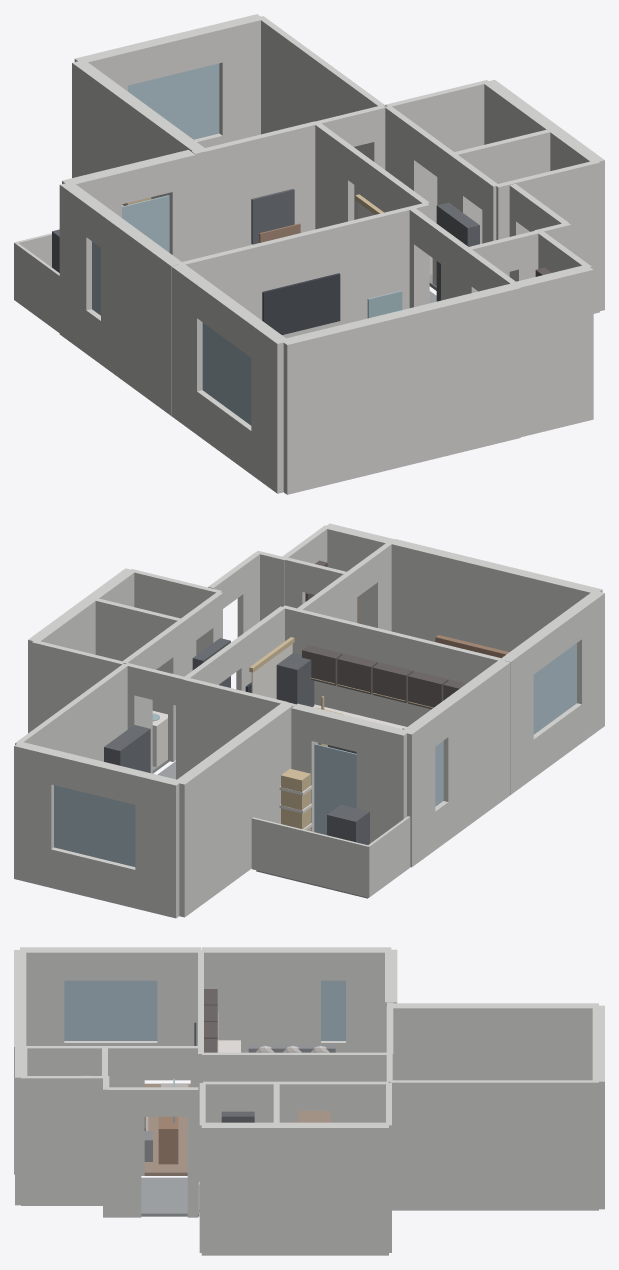
Rendered from kvartira-graphite-two-daily.glb.
3 views of the same model, one above another, from view 1: azimuth 30°, elevation 25°; view 2: azimuth 150°, elevation 25°; view 3: azimuth 270°, elevation 25° (orthographic). The views are drawn at different scales.
Parts seen in each view (by area): view 1: wall_w_l_s_166_612_0.0, wall_w_dividing_168_644_0.0, wall_w_closet_s_612_752_0.0, wall_w_k_w_559_791_0.0, wall_w_top_s_426_660_0.0, wall_w_top_w_20_423_0.0, wall_w_top_e_20_425_0.0, wall_w_wc_s_777_971_0.0, wall_w_l_w_1057_1143_0.0, wall_w_top_n_691_771_0.0, wall_w_bath_n_777_971_0.0, wall_w_k_w_423_511_0.0 (+40 smaller); view 2: wall_w_l_s_166_612_0.0, wall_w_top_w_20_423_0.0, wall_w_dividing_168_644_0.0, wall_w_k_w_559_791_0.0, wall_w_top_n_422_510_0.0, wall_w_log_n_159_409_0.0, wall_w_top_n_691_771_0.0, wall_w_top_e_20_425_0.0, wall_w_top_n_510_691_0.8, wall_w_k_n1_165_266_0.0, wall_w_k_n2_408_643_0.0, wall_w_bath_n_777_971_0.0 (+51 smaller); view 3: wall_w_top_e_20_425_0.0, wall_w_bath_e_427_791_0.0, wall_w_top_w_20_423_0.0, wall_w_k_w_559_791_0.0, wall_w_closet_e_978_1141_0.0, wall_w_l_w_877_1057_0.8, wall_w_entry_e_908_972_0.0, wall_w_l_w_792_877_0.0, wall_w_k_w_423_511_0.0, wall_w_l_w_1057_1143_0.0, wall_w_l_w_877_1057_2.1, wall_w_k_e_625_790_0.0 (+28 smaller).
Boxes of the visible parts, box(x1,y1,x2,y2) form: wall_w_l_s_166_612_0.0: box(281, 283, 520, 494); wall_w_dividing_168_644_0.0: box(178, 202, 429, 338); wall_w_closet_s_612_752_0.0: box(516, 265, 593, 437); wall_w_k_w_559_791_0.0: box(101, 212, 182, 415); wall_w_top_s_426_660_0.0: box(204, 119, 327, 256); wall_w_top_w_20_423_0.0: box(72, 60, 204, 199); wall_w_top_e_20_425_0.0: box(258, 16, 385, 219); wall_w_wc_s_777_971_0.0: box(495, 161, 599, 313); wall_w_l_w_1057_1143_0.0: box(251, 322, 289, 493); wall_w_top_n_691_771_0.0: box(216, 14, 263, 143); wall_w_bath_n_777_971_0.0: box(385, 80, 489, 223); wall_w_k_w_423_511_0.0: box(59, 183, 98, 353); wall_w_l_s_166_612_0.0: box(390, 539, 602, 651); wall_w_top_w_20_423_0.0: box(174, 703, 292, 917); wall_w_dividing_168_644_0.0: box(282, 605, 505, 726); wall_w_k_w_559_791_0.0: box(437, 659, 510, 840); wall_w_top_n_422_510_0.0: box(135, 771, 181, 918); wall_w_log_n_159_409_0.0: box(251, 817, 368, 897); wall_w_top_n_691_771_0.0: box(14, 742, 56, 887); wall_w_top_e_20_425_0.0: box(15, 663, 127, 761); wall_w_top_n_510_691_0.8: box(54, 785, 135, 866); wall_w_k_n1_165_266_0.0: box(356, 719, 409, 843); wall_w_k_n2_408_643_0.0: box(183, 679, 295, 774); wall_w_bath_n_777_971_0.0: box(32, 641, 124, 730); wall_w_top_e_20_425_0.0: box(390, 1080, 598, 1210); wall_w_bath_e_427_791_0.0: box(201, 1122, 388, 1255); wall_w_top_w_20_423_0.0: box(391, 1003, 598, 1080); wall_w_k_w_559_791_0.0: box(201, 947, 320, 1052); wall_w_closet_e_978_1141_0.0: box(21, 1076, 104, 1205); wall_w_l_w_877_1057_0.8: box(64, 980, 157, 1040); wall_w_entry_e_908_972_0.0: box(108, 1087, 141, 1217); wall_w_l_w_792_877_0.0: box(157, 947, 200, 1080); wall_w_k_w_423_511_0.0: box(346, 947, 391, 1052); wall_w_l_w_1057_1143_0.0: box(20, 947, 64, 1045); wall_w_l_w_877_1057_2.1: box(64, 947, 157, 980); wall_w_k_e_625_790_0.0: box(202, 1052, 286, 1111).
Bounding box in the file's own units: 8.24 × 2.77 × 11.41.
